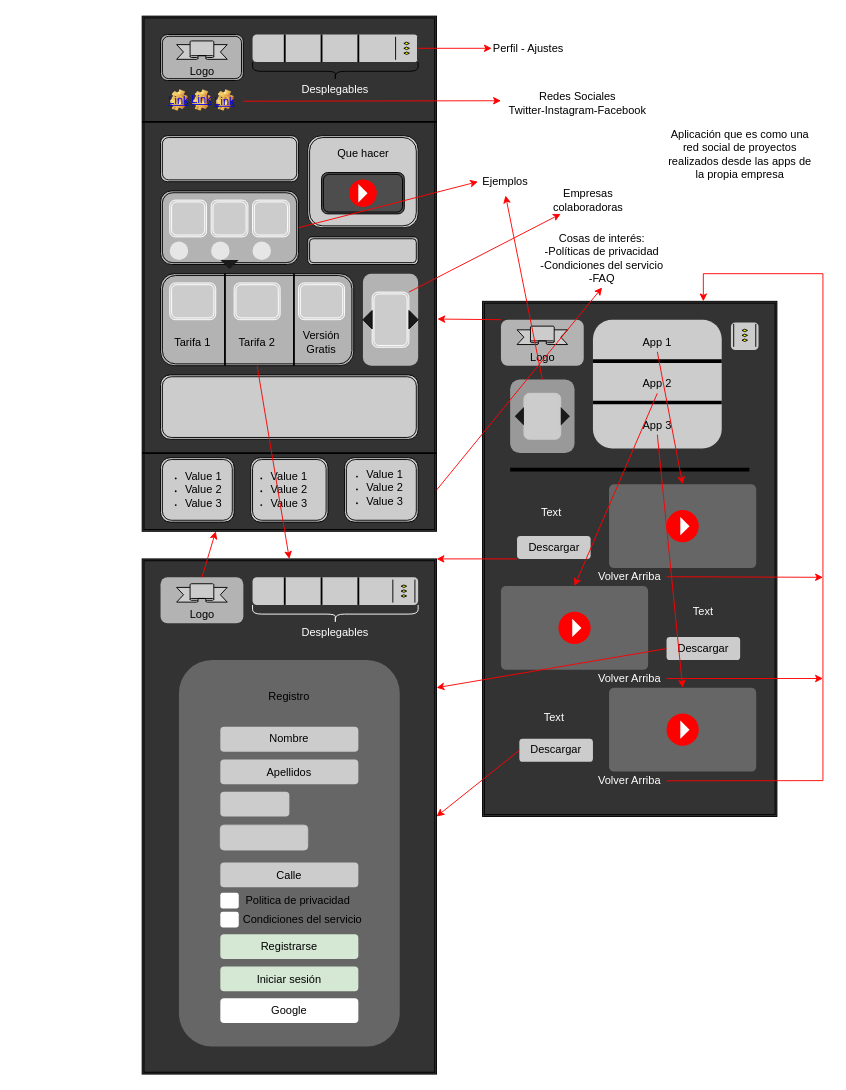
The diagram is 846 pixels wide and 1090 high, and some of its shapes have lost their labels. Each missing label, with the box of its shape:
Ad. Newsletter: (307, 236, 418, 264)
Descripción: (160, 135, 299, 182)
Fecha_Nac: (220, 791, 289, 816)
Tlfn:.: (219, 824, 308, 850)
¿Porque nosotros?: (160, 374, 418, 439)
